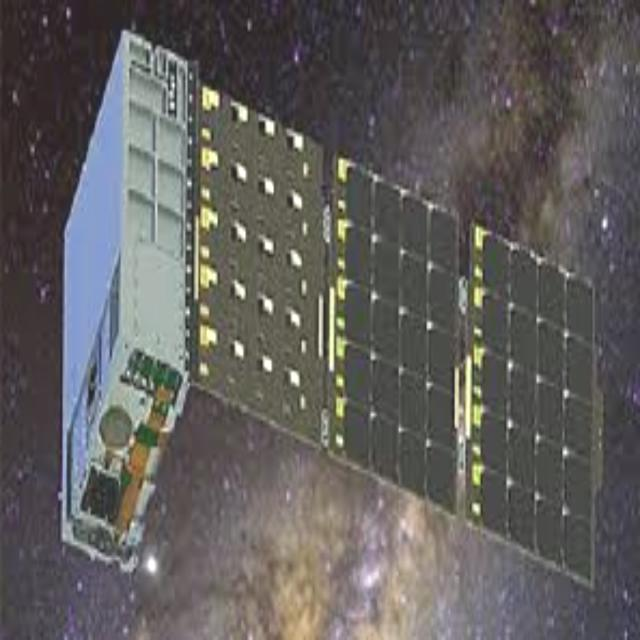medium_debris: (37, 11, 636, 602)
